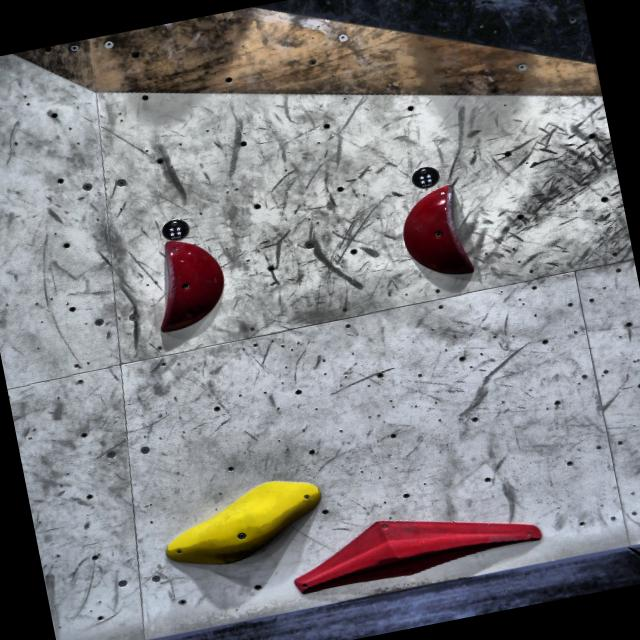Hold: (279, 493, 553, 605), (159, 472, 334, 568), (390, 180, 492, 289), (140, 231, 238, 339)
